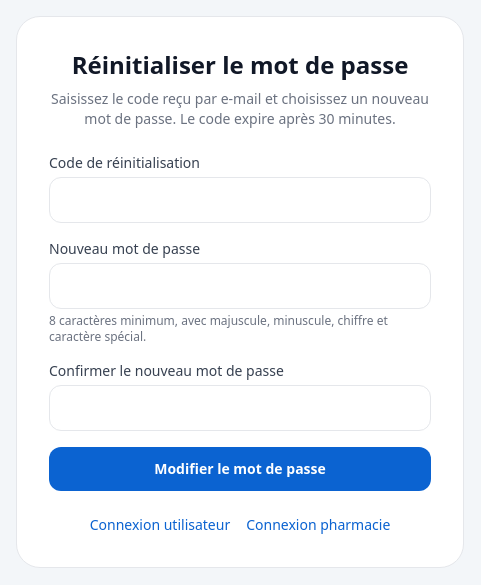
Test: ResetPasswordPage › submits the email code and new password, then confirms success
Type "mail-reset-code" into the field labelled "Code de réinitialisation" at point(240, 200), box [49,177,431,223]
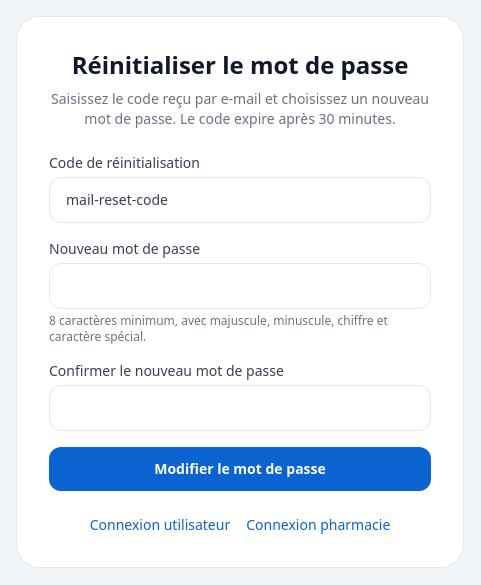
Type "SecurePass123!" into the password field labelled "Nouveau mot de passe" at point(240, 286), box [49,263,431,309]
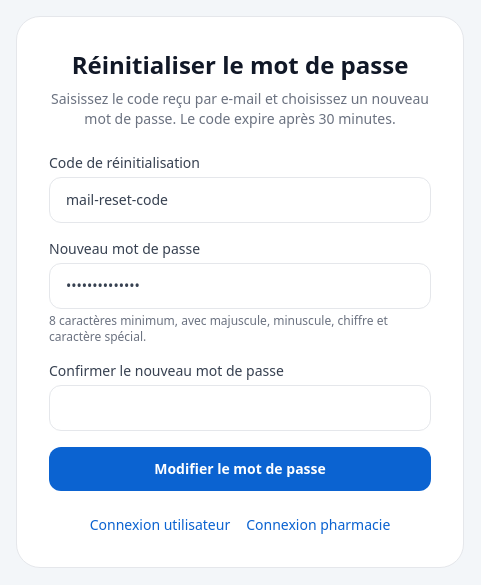
Type "SecurePass123!" into the password field labelled "Confirmer le nouveau mot de passe" at point(240, 408), box [49,385,431,431]
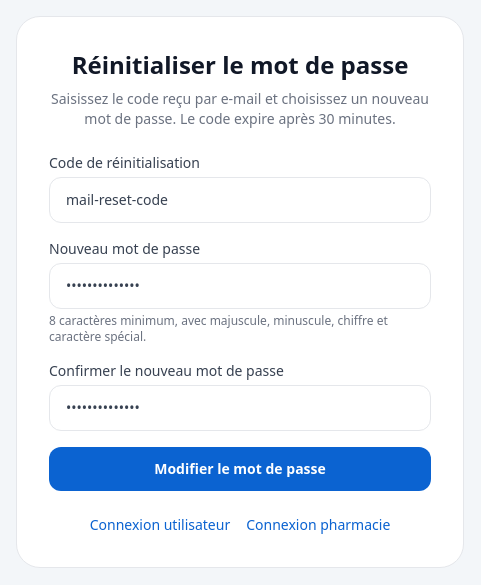
Submit the form named "Modifier le mot de passe", box [49,153,431,491]
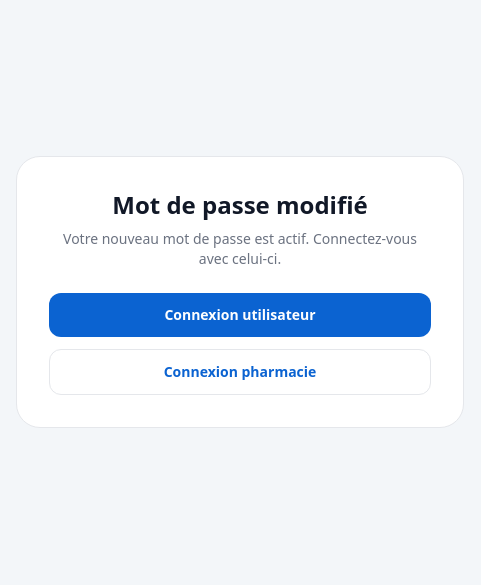
Expected: the heading "Mot de passe modifié" is shown, [112,188,368,221]
